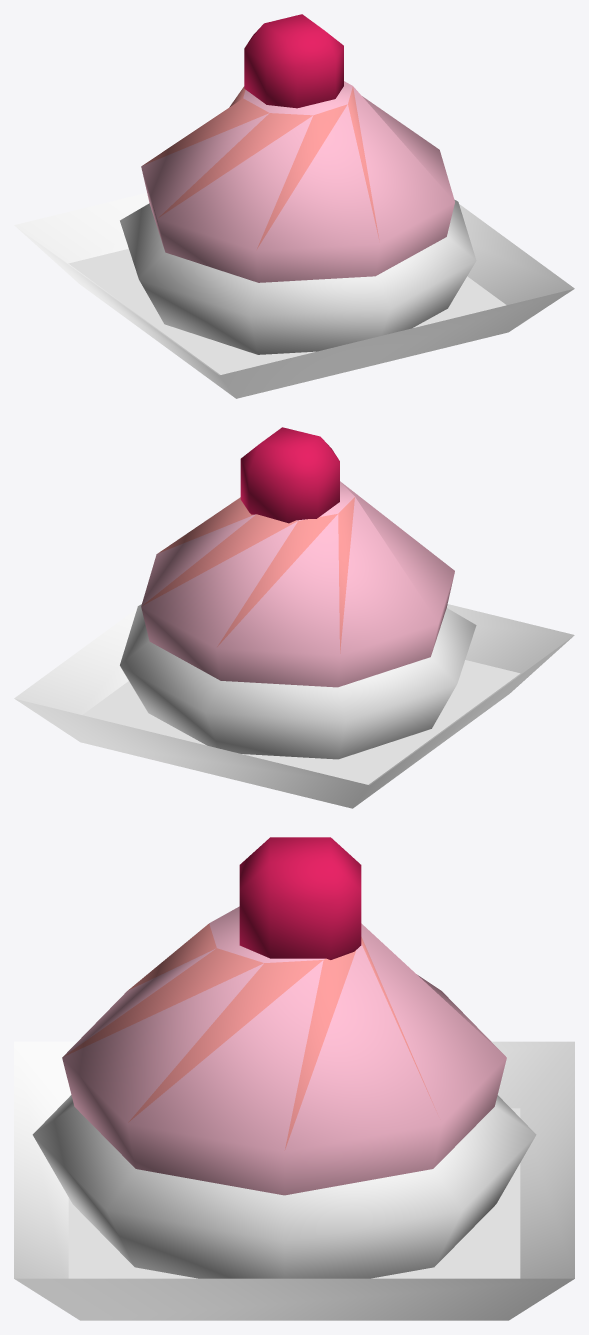
File: shop_062.glb
3 views of the same model, one above another, from view 1: azimuth 30°, elevation 25°; view 2: azimuth 150°, elevation 25°; view 3: azimuth 270°, elevation 25° (orthographic). The views are drawn at different scales.
Parts seen in each view (by area): view 1: shop_062; view 2: shop_062; view 3: shop_062.
Boxes of the visible parts, x1,y1,x2,y2 form: shop_062: [14, 14, 574, 398]; shop_062: [14, 427, 574, 808]; shop_062: [14, 837, 574, 1320].
Size of the model in its own units: 0.1134 by 0.0851 by 0.1134.
Materials: 1 (1 with a texture image).
